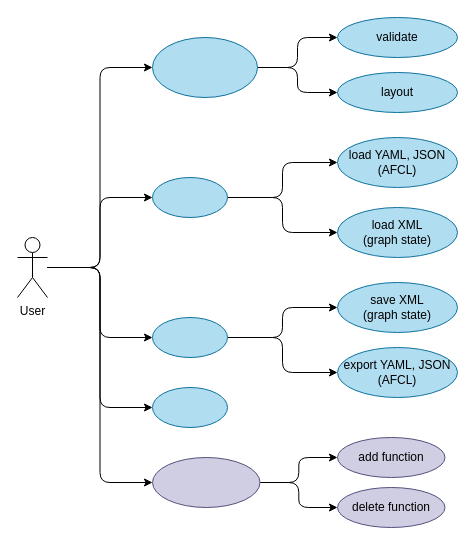
This 475x545 diagram has some shape labels left out. The centre of each missing label's shape, as x and y in pixels:
"adapt FC" goes at (x=190, y=407).
"load FC" goes at (x=190, y=197).
"manage functions" goes at (x=206, y=482).
"model FC (create, edit)" goes at (x=205, y=67).
"save FC" goes at (x=190, y=337).
